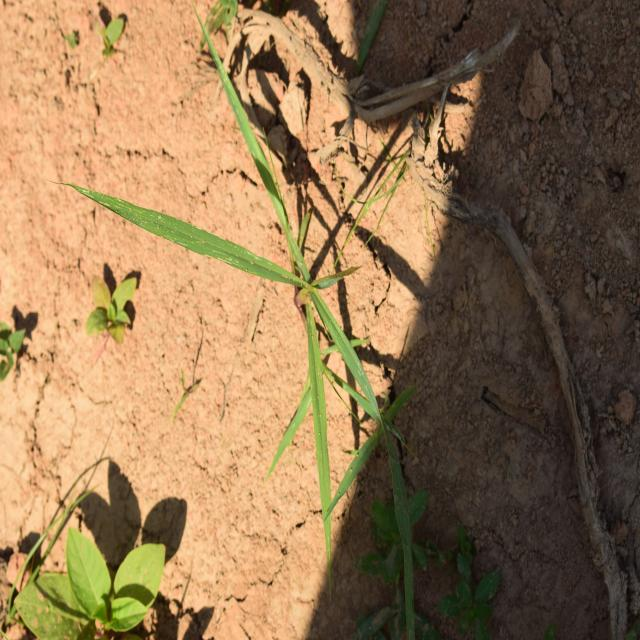green_foxtail: (124, 99, 387, 457)
